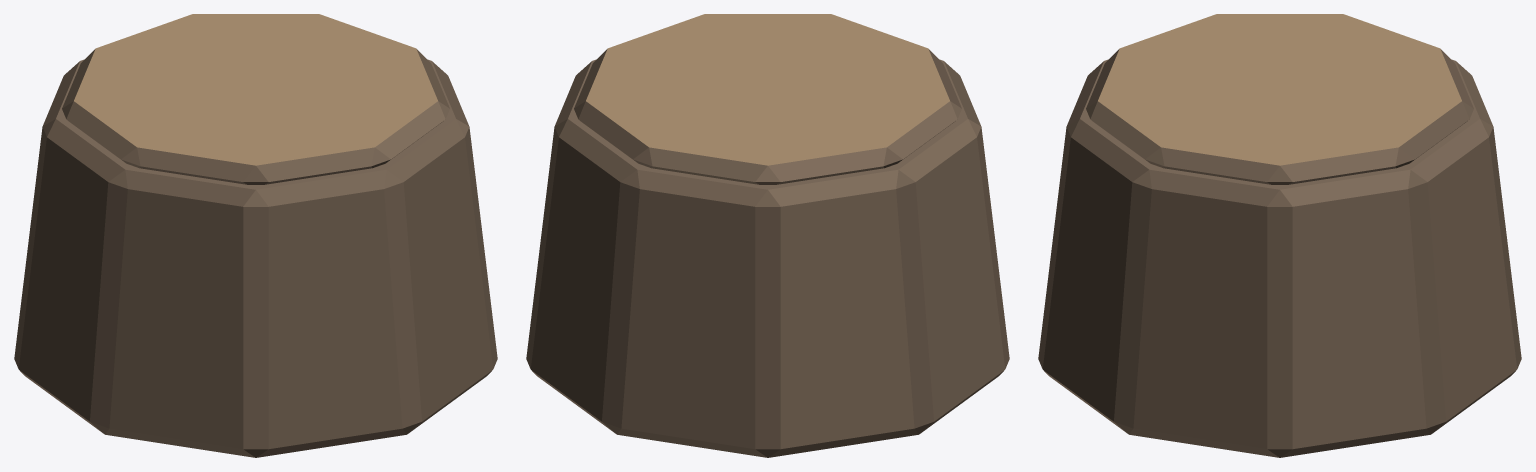
File: SM_Kit_toco.fbx
The picture shows the model from 3 angles, left to right: view 1: azimuth 30°, elevation 25°; view 2: azimuth 150°, elevation 25°; view 3: azimuth 270°, elevation 25°; orthographic projection.
Visible parts, largest first — view 1: SM_Kit_toco; view 2: SM_Kit_toco; view 3: SM_Kit_toco.
Boxes of the visible parts, <box> form: SM_Kit_toco: <box>14,14,497,457</box>; SM_Kit_toco: <box>526,14,1009,457</box>; SM_Kit_toco: <box>1038,14,1521,457</box>.
Size of what is drawn, in the model's own units: 105 by 66 by 107.
